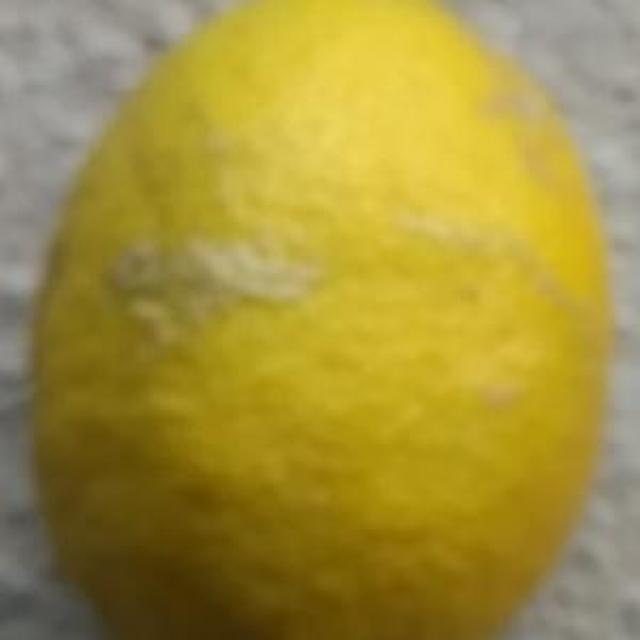lemon: (28, 5, 614, 640)
